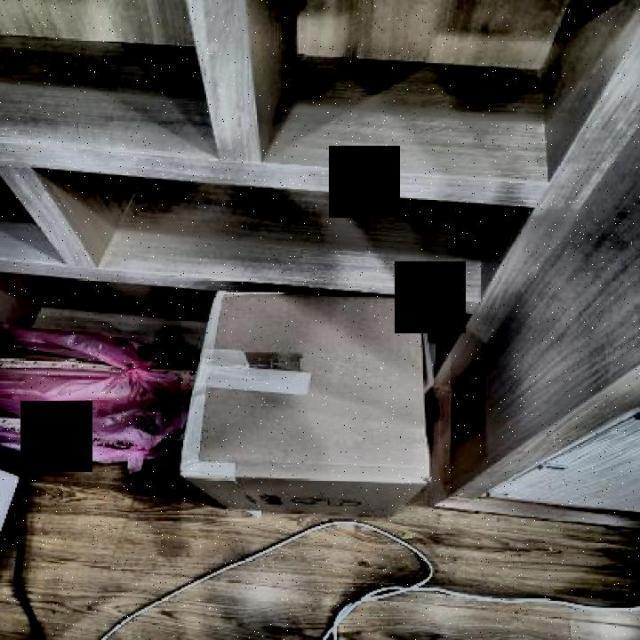box: (181, 285, 451, 530)
